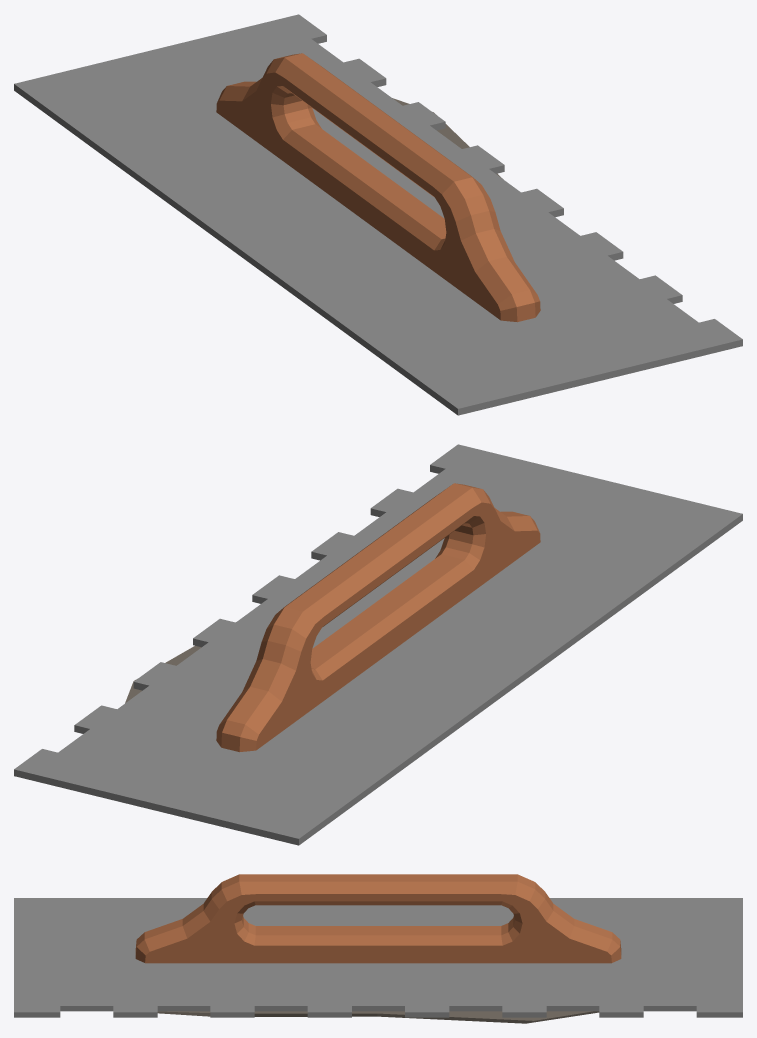
The picture shows the model from 3 angles, top to bottom: view 1: azimuth 30°, elevation 25°; view 2: azimuth 150°, elevation 25°; view 3: azimuth 270°, elevation 25°; orthographic projection. The views are drawn at different scales.
Visible parts, largest first — view 1: Kelle Groß; view 2: Kelle Groß; view 3: Kelle Groß.
Part boxes in pixels (box(x1,y1,x2,y2)): Kelle Groß: box(14, 14, 742, 415); Kelle Groß: box(14, 444, 742, 845); Kelle Groß: box(14, 874, 742, 1023).
Bounding box in the file's own units: 0.1997 × 0.085 × 0.5248.
